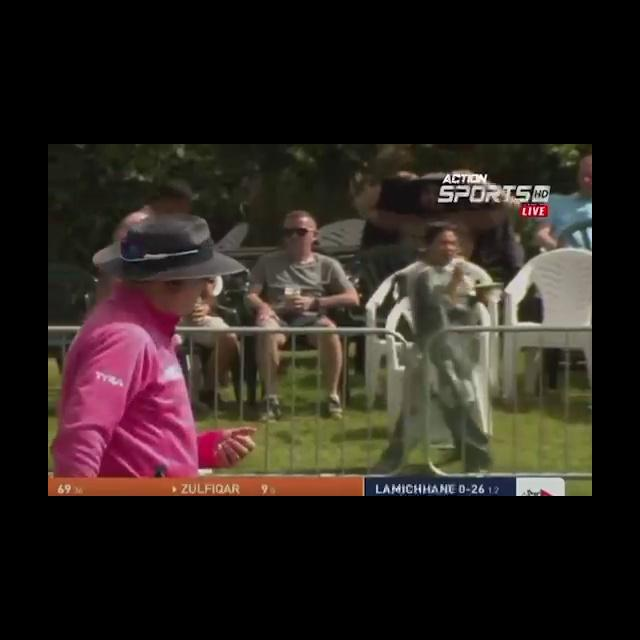umpire: (52, 171, 297, 470)
